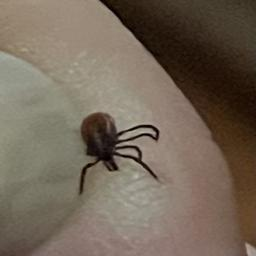Ixodes scapularis: (79, 121, 162, 195)
